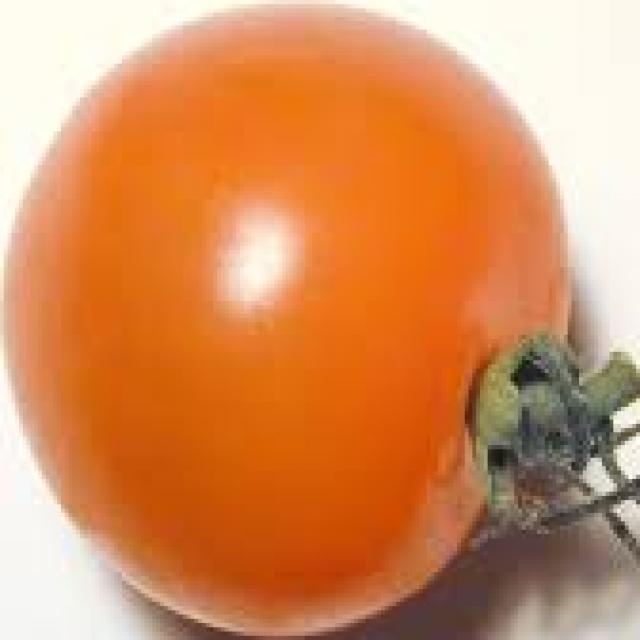Healthy: (15, 5, 639, 640)
